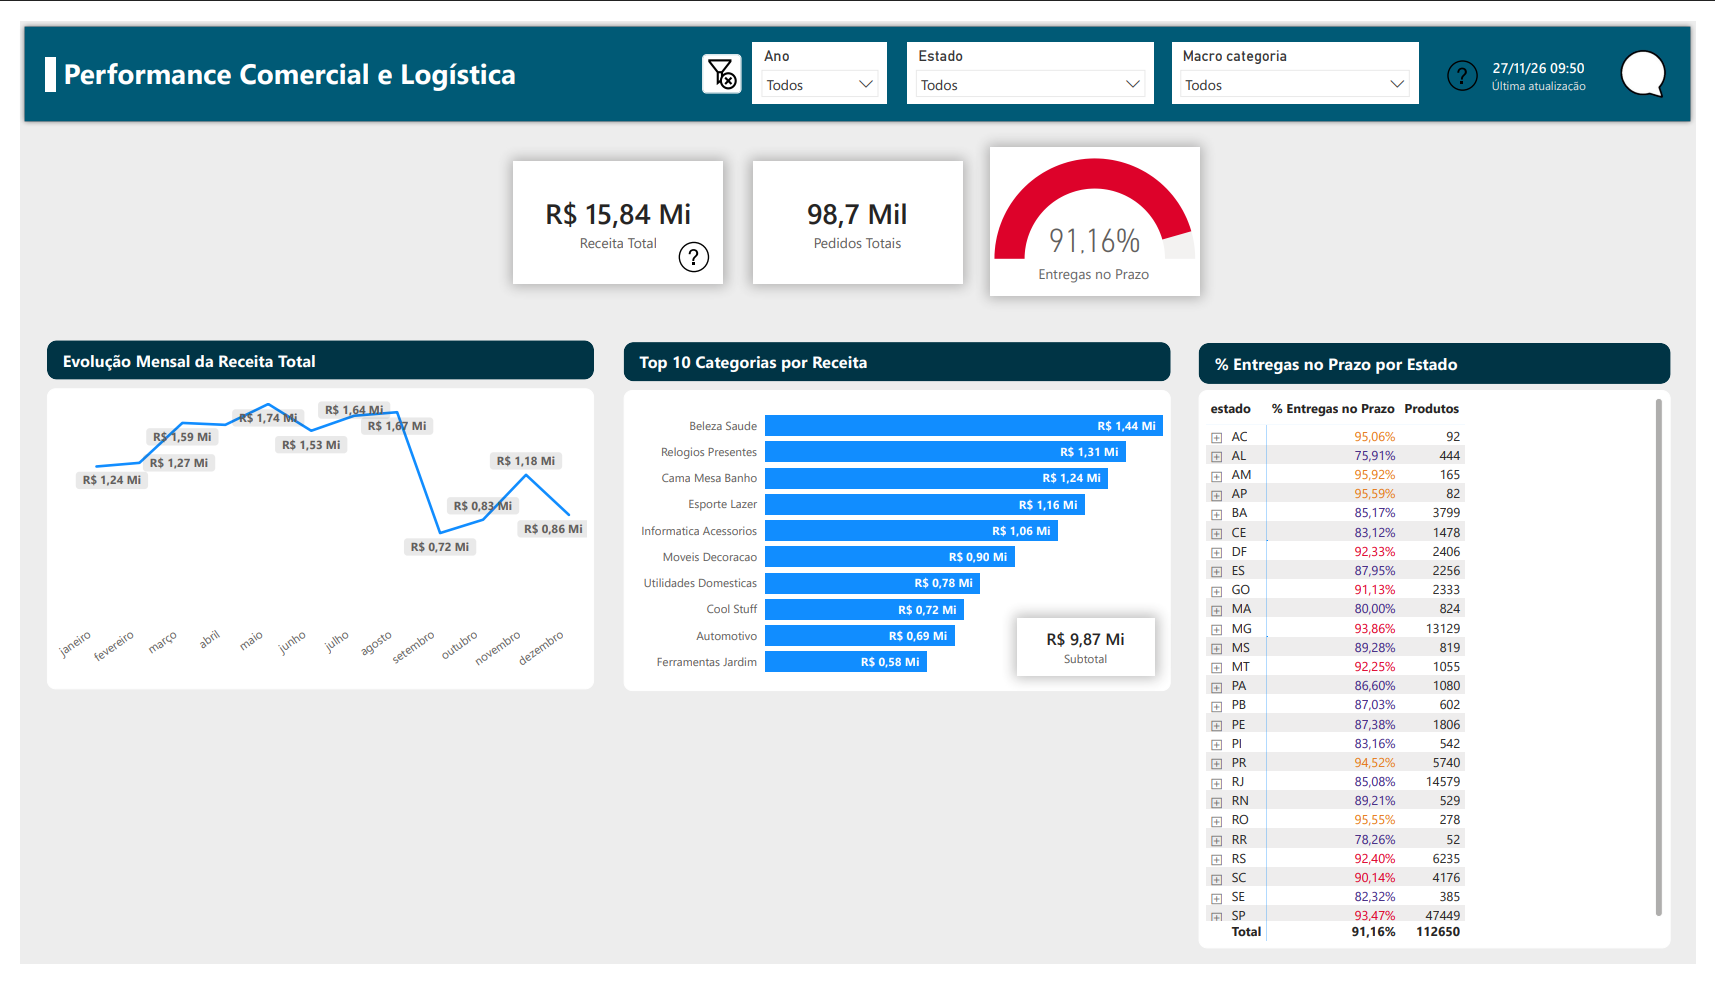

Layout of this report page (visuals, bound fields, positions):
{"tool":"powerbi","page":{"name":"Perf. Comercial e Log.","canvas":[1920,1080],"ordinal":0},"visuals":[{"type":"group","id":"g1","title":"Cabeçalho","box":[0,0,1920,120],"z":0},{"type":"shape","title":"Aba cabeçalho","box":[0,0,1920,120],"z":0,"group":"g1"},{"type":"shape","box":[1112.2,144.4,240,170],"z":0,"group":"g2"},{"type":"textbox","title":"Título","box":[45,31.4,760,56.7],"z":1000,"group":"g1"},{"type":"gauge","fields":{"Y":["_Medidas.% Entregas no Prazo"]},"box":[1112.2,144.4,240,140],"z":1000,"group":"g2"},{"type":"cardVisual","title":"Cartão Receita Total","fields":{"Data":["_Medidas.Receita Total"]},"box":[565.6,160,240,140],"z":1000},{"type":"shape","box":[28.6,40,12,40],"z":2000,"group":"g1"},{"type":"cardVisual","title":"Cartão Total Pedidos","fields":{"Data":["_Medidas.Total Pedidos"]},"box":[840,160.3,240,140],"z":2000},{"type":"textbox","box":[1132.2,273.3,198.3,38.3],"z":2000,"group":"g2"},{"type":"image","title":"Botão info","box":[1830,31.7,60,56.7],"z":3000,"group":"g1"},{"type":"group","id":"g2","title":"Indicador E. no Prazo","box":[1112.2,144.4,240,170],"z":3000},{"type":"shape","box":[31.3,365,626.7,45],"z":4000},{"type":"lineChart","fields":{"Category":["dim_calendario.data.Variation.Hierarquia de datas.Mês"],"Y":["Sum(fact_vendas.valor_total_item)"]},"box":[30.9,420,627,345],"z":5000},{"type":"shape","box":[692.2,366.7,626.7,45],"z":6000},{"type":"clusteredBarChart","fields":{"Category":["dim_produtos.subcategoria"],"Y":["Sum(fact_vendas.valor_total_item)"]},"box":[692.2,421.7,626.7,345],"z":7000},{"type":"shape","box":[1350.8,368.3,541.7,46.7],"z":8000},{"type":"pivotTable","fields":{"Rows":["dim_clientes.estado","dim_clientes.cidade"],"Values":["_Medidas.% Entregas no Prazo","CountNonNull(fact_vendas.id_produto)"]},"box":[1350.8,421.7,541.7,640],"z":9000},{"type":"cardVisual","title":"Cartão Total Pedidos","fields":{"Data":["Sum(fact_vendas.valor_total_item)"]},"box":[1143,683,157.5,66.2],"z":10000},{"type":"slicer","fields":{"Values":["dim_calendario.ano"]},"box":[840,24.3,154.3,70],"z":11000},{"type":"slicer","fields":{"Values":["dim_clientes.estado","dim_clientes.cidade"]},"box":[1017.1,24.3,282.9,70],"z":12000},{"type":"slicer","fields":{"Values":["dim_produtos.macro_categoria"]},"box":[1320,24.3,282.9,70],"z":13000},{"type":"image","box":[781.7,36.7,45,45],"z":14000},{"type":"cardVisual","fields":{"Data":["Min(Última atualização.Última atualização)"]},"box":[1653.3,25,176.7,71.7],"z":15000},{"type":"dynamicTooltip1859AB39DB23051788ADF752BCB90749","fields":{"header":["_Medidas.Blank"]},"box":[1631.4,38.6,45,45],"z":16000},{"type":"dynamicTooltip1859AB39DB23051788ADF752BCB90749","fields":{"header":["_Medidas.Blank"]},"box":[750,247.1,45,45],"z":18000}]}

Visuals, with their boxes in screenshot pixels (x1, y1, x2, y2), scaled from the page's 1920x1080 canvas onto the 1715x983 screenshot:
"Cabeçalho" group: [0,0,1714,109]
"Aba cabeçalho" shape: [0,0,1714,109]
shape: [993,131,1208,286]
"Título" textbox: [40,29,719,80]
gauge - _Medidas.% Entregas no Prazo: [993,131,1208,259]
"Cartão Receita Total" cardVisual: [505,146,720,273]
shape: [26,36,36,73]
"Cartão Total Pedidos" cardVisual: [750,146,965,273]
textbox: [1011,249,1188,284]
"Botão info" image: [1635,29,1688,80]
"Indicador E. no Prazo" group: [993,131,1208,286]
shape: [28,332,588,373]
lineChart - dim_calendario.data.Variation.Hierarquia de datas.Mês x Sum(fact_vendas.valor_total_item): [28,382,588,696]
shape: [618,334,1178,375]
clusteredBarChart - dim_produtos.subcategoria x Sum(fact_vendas.valor_total_item): [618,384,1178,698]
shape: [1207,335,1690,378]
pivotTable - dim_clientes.estado x dim_clientes.cidade: [1207,384,1690,966]
"Cartão Total Pedidos" cardVisual: [1021,622,1162,682]
slicer - dim_calendario.ano: [750,22,888,86]
slicer - dim_clientes.estado x dim_clientes.cidade: [909,22,1161,86]
slicer - dim_produtos.macro_categoria: [1179,22,1432,86]
image: [698,33,738,74]
cardVisual - Min(Última atualização.Última atualização): [1477,23,1635,88]
dynamicTooltip1859AB39DB23051788ADF752BCB90749 - _Medidas.Blank: [1457,35,1497,76]
dynamicTooltip1859AB39DB23051788ADF752BCB90749 - _Medidas.Blank: [670,225,710,266]
